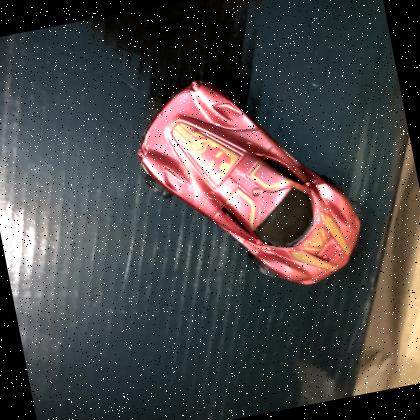Car: (125, 53, 373, 315)
